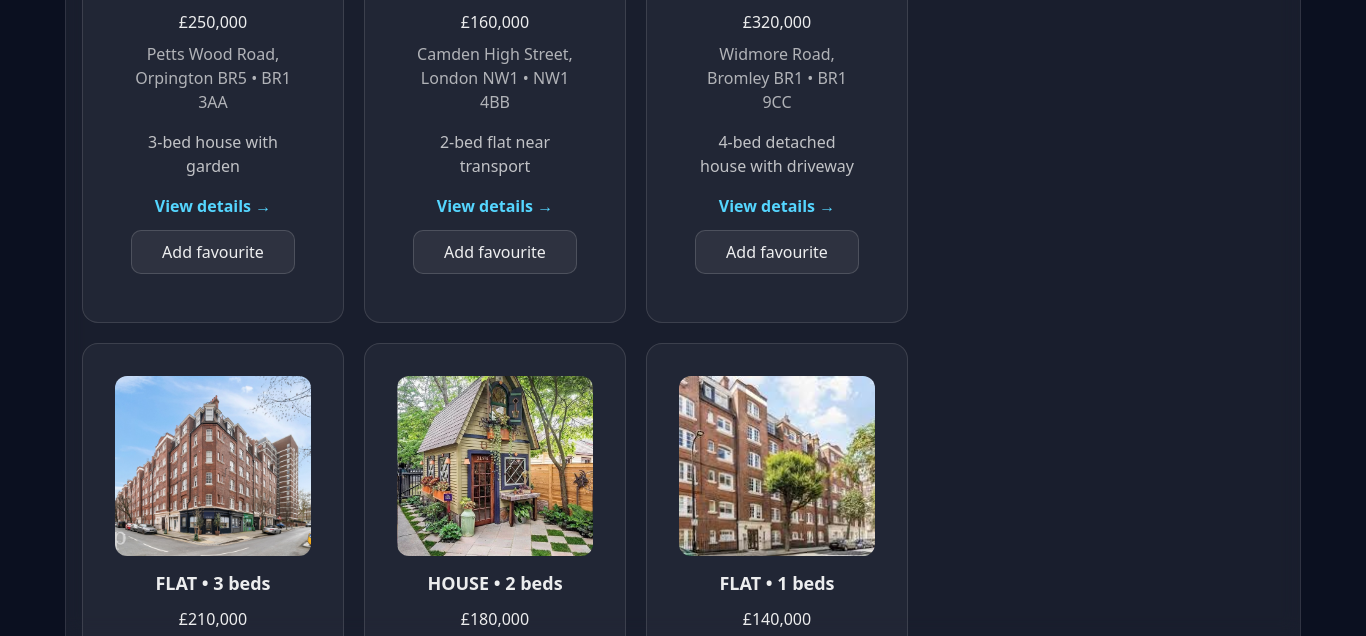
remove favourite works
(page scrolled)
Click the button with test id "fav-btn-p1". click: [213, 252]
box: [131, 230, 295, 274]
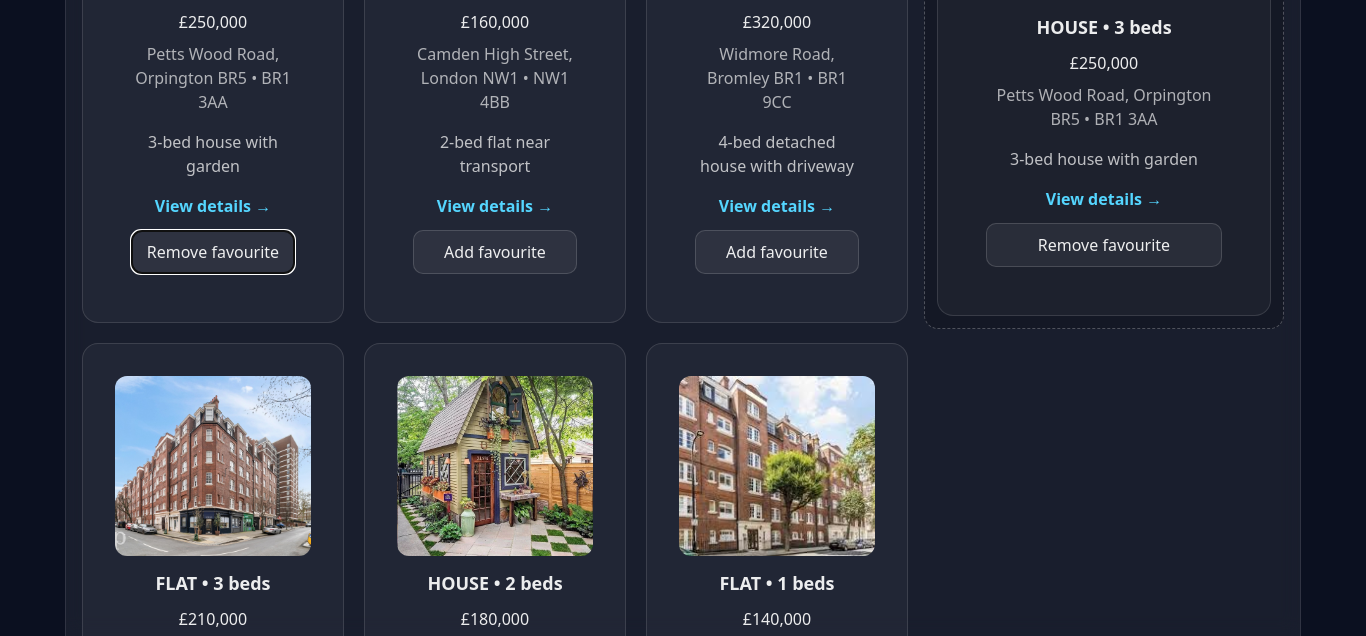
Click the button with test id "fav-btn-p1" below "2-bed flat near transport". click: [213, 252]
box: [131, 230, 295, 274]
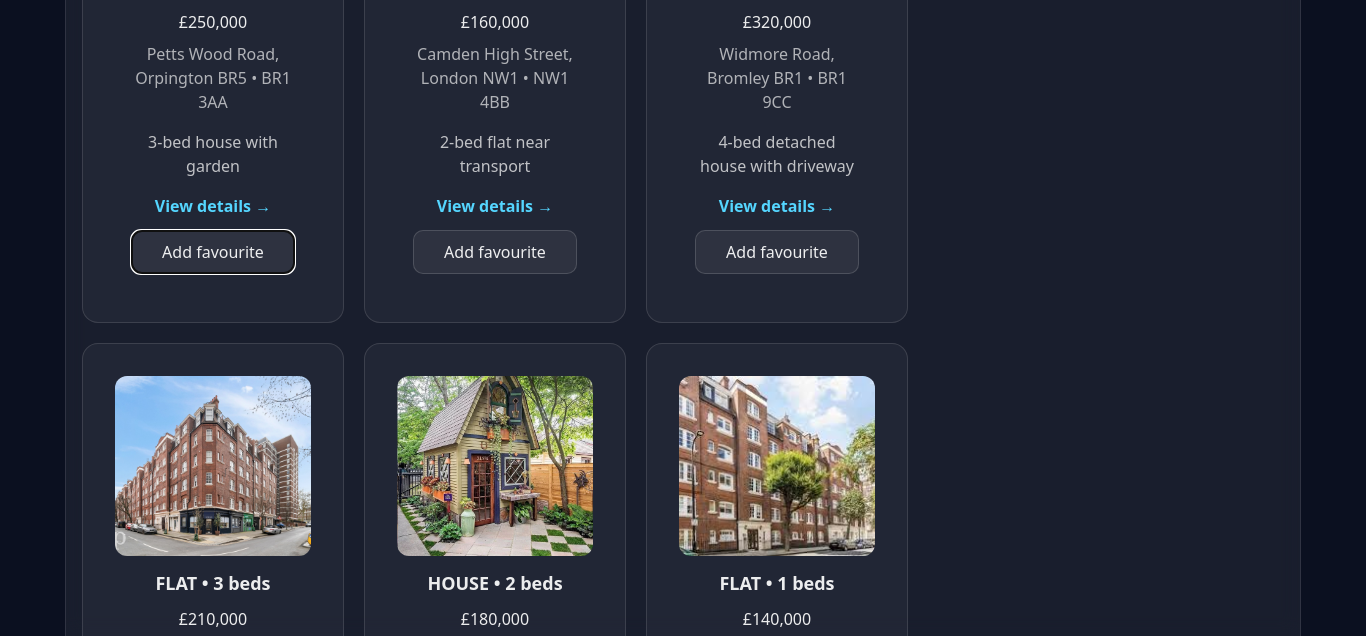
expect the button with test id "fav-btn-p1" reads "Add favourite": met, box [131, 230, 295, 274]
